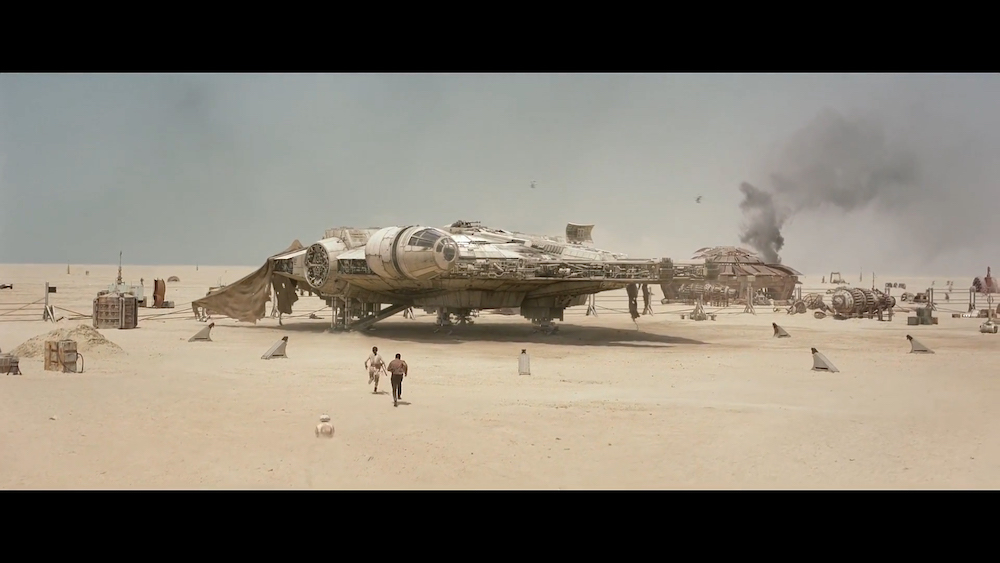Millennium Falcon: (267, 227, 720, 307)
Tie Fighter: (696, 195, 702, 204), (530, 183, 537, 189)
